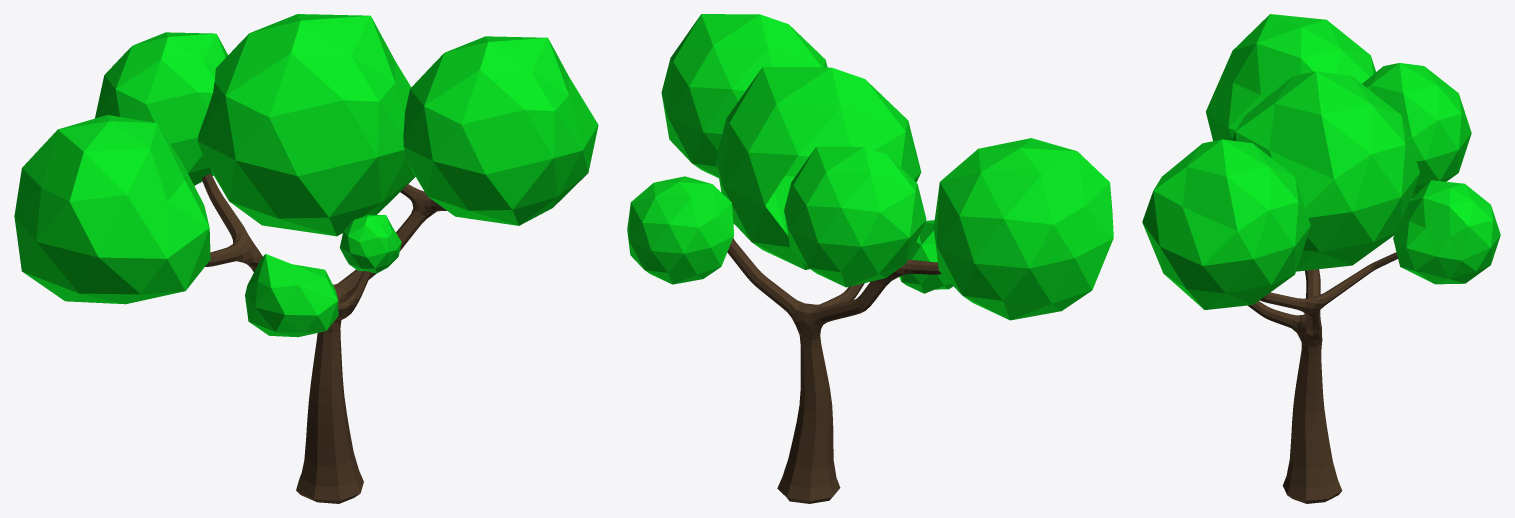
Rendered from árvore 1.fbx.
3 renders of one model, left to right at view 1: azimuth 30°, elevation 25°; view 2: azimuth 150°, elevation 25°; view 3: azimuth 270°, elevation 25°, orthographic. The views are drawn at different scales.
Parts seen in each view (by area): view 1: Folhas, Tronco; view 2: Folhas, Tronco; view 3: Folhas, Tronco.
Boxes of the visible parts, x1=… form: Folhas: x1=14, y1=14, x2=598, y2=337; Tronco: x1=202, y1=173, x2=446, y2=503; Folhas: x1=627, y1=14, x2=1113, y2=320; Tronco: x1=727, y1=238, x2=941, y2=503; Folhas: x1=1142, y1=14, x2=1500, y2=309; Tronco: x1=1248, y1=252, x2=1397, y2=503.
Size of the model in its own units: 1006 by 886 by 698.
